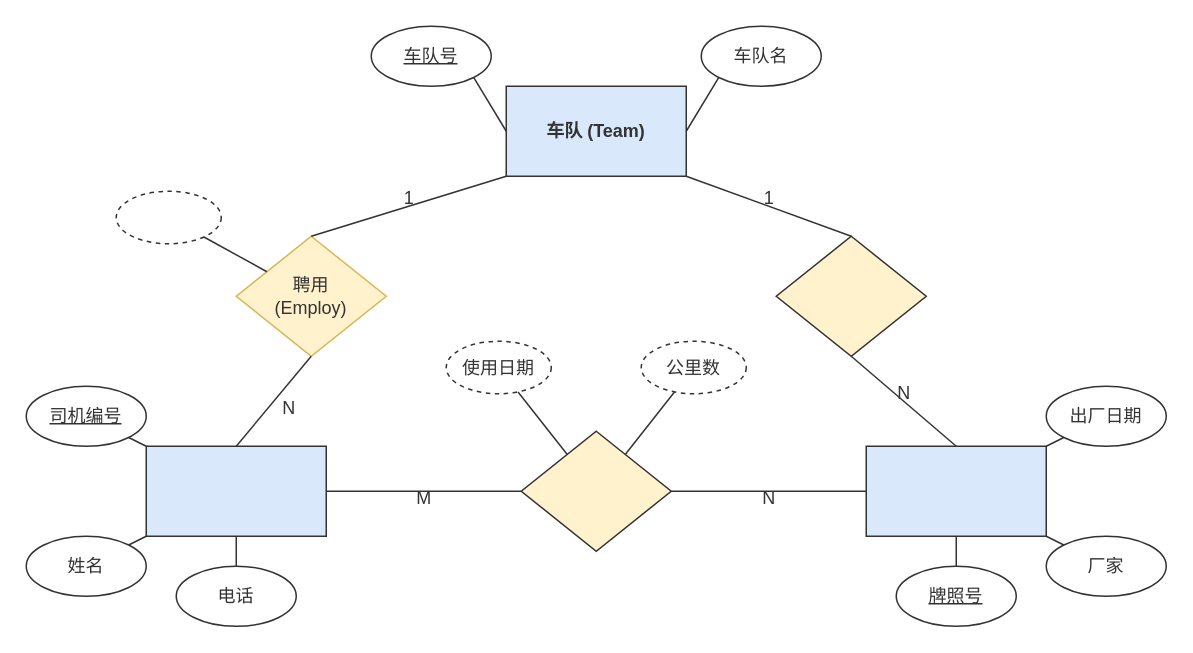
Image size: 1193x653. Some labels were removed from this diagram. Here are the shapes that lost their labels. From the top down, the centre of each, then its label:
pixel 168 217: 聘期
pixel 850 295: 拥有 (Own)
pixel 235 490: 司机 (Driver)
pixel 595 490: 使用 (Use)
pixel 955 490: 车辆 (Vehicle)
